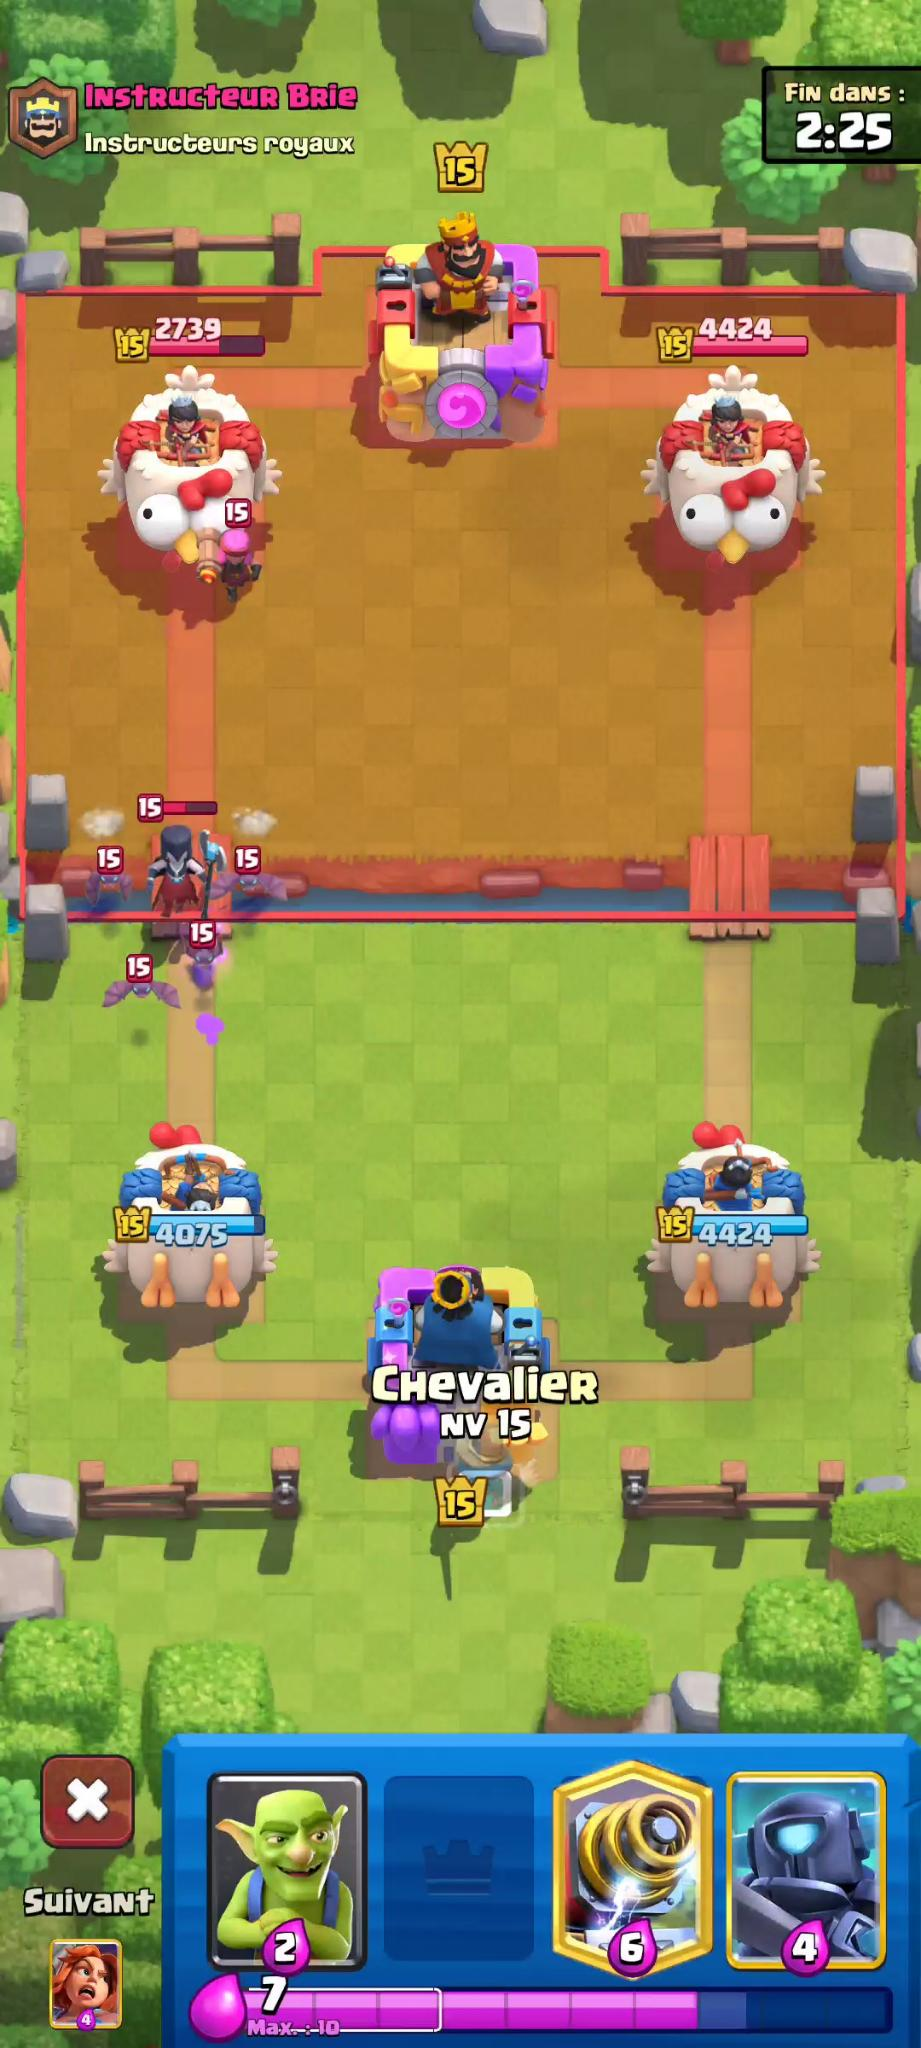bat: (71, 848, 148, 913), (97, 960, 186, 1015), (205, 856, 280, 920), (170, 917, 243, 973)
chevalier: (436, 1425, 533, 1516)
